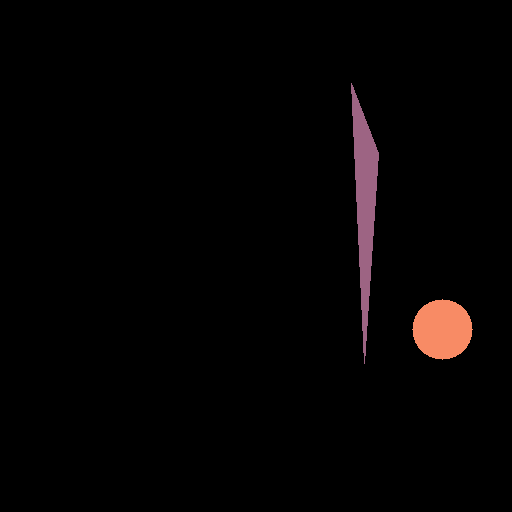circle: (412, 299, 472, 359)
triangle: (351, 83, 378, 363)
